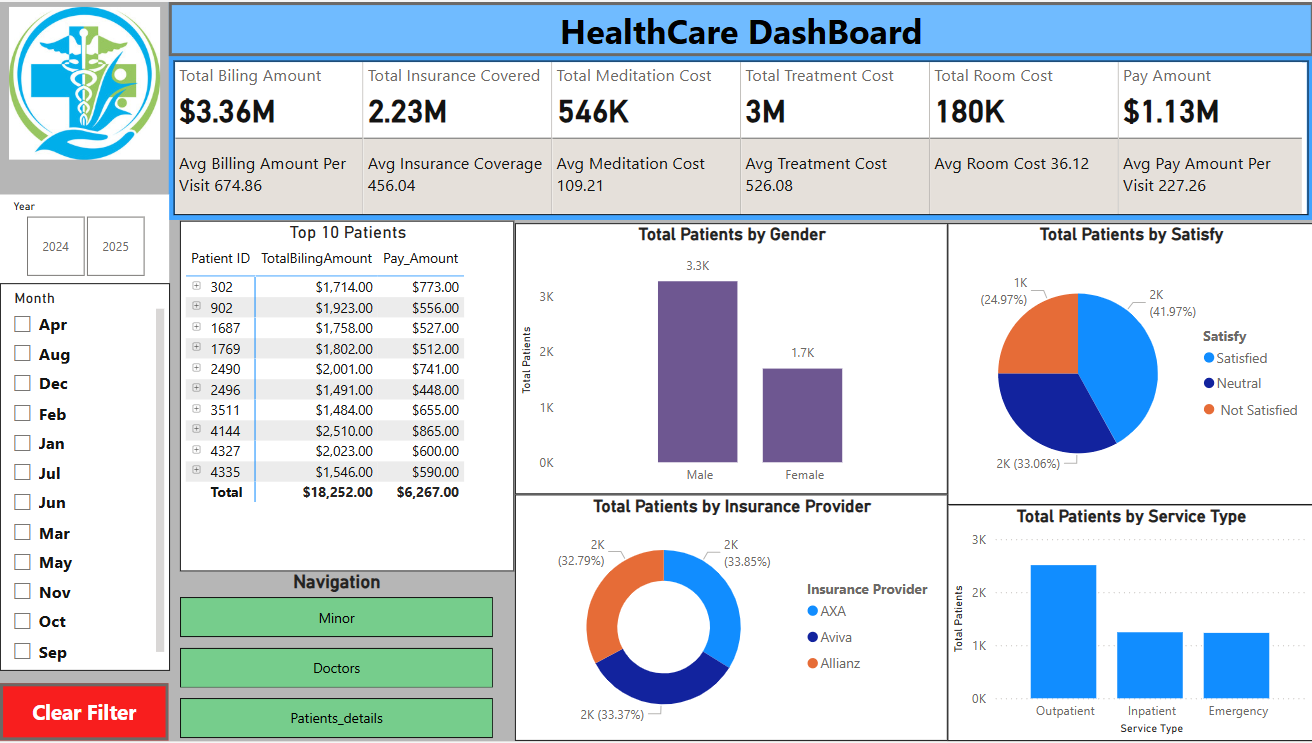

What the dashboard file says about the page in this screenshot:
{"tool":"powerbi","page":{"name":"Patients","canvas":[1280,720],"ordinal":0},"visuals":[{"type":"cardVisual","fields":{"Data":["Measure Calculation.TotalBilingAmount","Measure Calculation.TotalInsuranceCovered","Measure Calculation.TotalMeditationCost","Measure Calculation.TotalTreatmentCost","Measure Calculation.totalroomcost","Measure Calculation.Pay_Amount"]},"box":[164.3,52.9,1115.7,160],"z":0},{"type":"image","box":[0,0,165,158.8],"z":1000},{"type":"slicer","fields":{"Values":["Calender.Date.Variation.Date Hierarchy.Year"]},"box":[0,187.5,165,86.2],"z":2000},{"type":"slicer","fields":{"Values":["Calender.Short Month Name"]},"box":[0,273.6,165.8,377.7],"z":3000},{"type":"actionButton","box":[164.3,0,1115.7,52.9],"z":4000},{"type":"clusteredColumnChart","fields":{"Category":["visit.Service Type"],"Y":["Measure Calculation.Total Patients"]},"box":[922.9,490,357.1,230],"z":5000},{"type":"pieChart","fields":{"Category":["patients.Satisfacation Score"],"Y":["Measure Calculation.Total Patients"]},"box":[922.9,215.7,357.1,274.3],"z":6000},{"type":"donutChart","fields":{"Category":["insurance.Insurance Provider"],"Y":["Measure Calculation.Total Patients"]},"box":[501.4,480,421.4,240],"z":7000},{"type":"pivotTable","title":"Top 10 Patients","fields":{"Rows":["patients.Patient ID","patients.Patient Name"],"Values":["Measure Calculation.TotalBilingAmount","Measure Calculation.Pay_Amount"]},"box":[175.7,212.9,325.7,341.4],"z":8000},{"type":"lineClusteredColumnComboChart","fields":{"Y":["Measure Calculation.Total Patients"],"Category":["patients.Gender"]},"box":[501.4,215.7,421.4,264.3],"z":9000},{"type":"actionButton","box":[0,664.3,164.3,55.7],"z":10000},{"type":"pageNavigator","title":"Navigation","box":[175.7,554.3,305.7,162.9],"z":11000}]}

Visuals, with their boxes in screenshot pixels (x1, y1, x2, y2), scaled from the page's 1280x720 canvas onto the 1312x743 screenshot:
cardVisual - Measure Calculation.TotalBilingAmount x Measure Calculation.TotalInsuranceCovered: left=168, top=55, right=1311, bottom=220
image: left=0, top=0, right=169, bottom=164
slicer - Calender.Date.Variation.Date Hierarchy.Year: left=0, top=193, right=169, bottom=282
slicer - Calender.Short Month Name: left=0, top=282, right=170, bottom=672
actionButton: left=168, top=0, right=1311, bottom=55
clusteredColumnChart - visit.Service Type x Measure Calculation.Total Patients: left=946, top=506, right=1311, bottom=742
pieChart - patients.Satisfacation Score x Measure Calculation.Total Patients: left=946, top=223, right=1311, bottom=506
donutChart - insurance.Insurance Provider x Measure Calculation.Total Patients: left=514, top=495, right=946, bottom=742
"Top 10 Patients" pivotTable: left=180, top=220, right=514, bottom=572
lineClusteredColumnComboChart - Measure Calculation.Total Patients x patients.Gender: left=514, top=223, right=946, bottom=495
actionButton: left=0, top=686, right=168, bottom=742
"Navigation" pageNavigator: left=180, top=572, right=493, bottom=740
